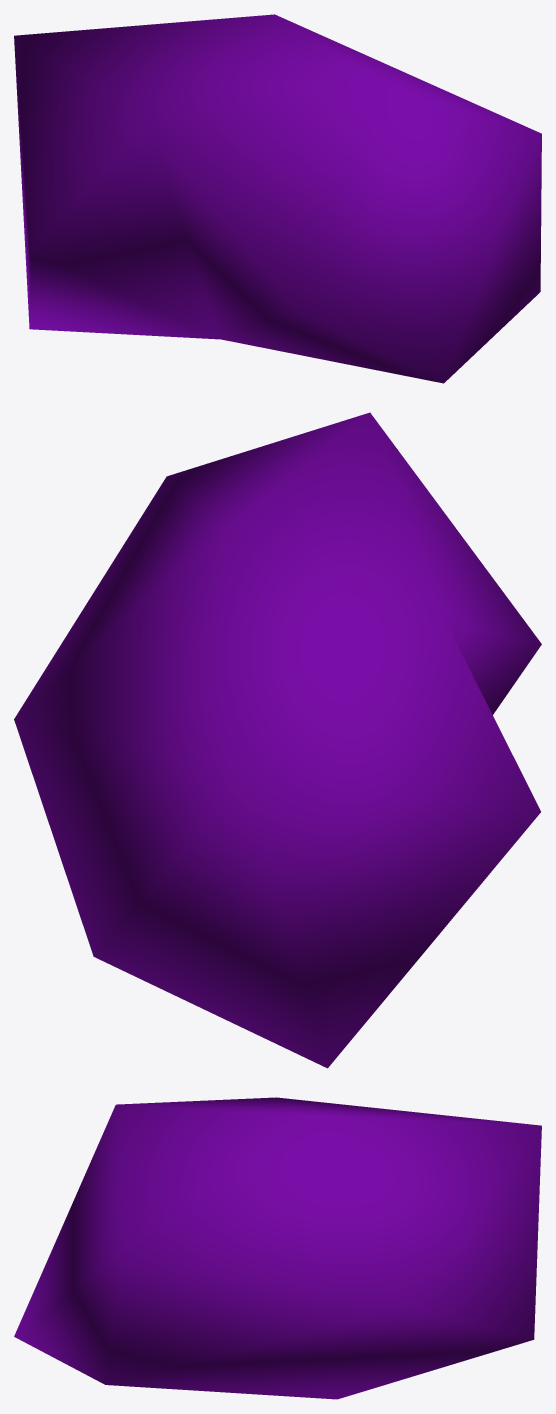
The model's file is AsteroidParticle_01.fbx.
3 renders of one model, top to bottom at view 1: azimuth 30°, elevation 25°; view 2: azimuth 150°, elevation 25°; view 3: azimuth 270°, elevation 25°, orthographic. The views are drawn at different scales.
Visible parts, largest first — view 1: AsteroidParticle_01; view 2: AsteroidParticle_01; view 3: AsteroidParticle_01.
Part boxes in pixels (box(x1,y1,x2,y2)): AsteroidParticle_01: box(14, 14, 541, 383); AsteroidParticle_01: box(14, 412, 541, 1068); AsteroidParticle_01: box(14, 1097, 541, 1399).
Size of the model in its own units: 2.92 by 2.38 by 3.65.
1 material, 1 textured.
